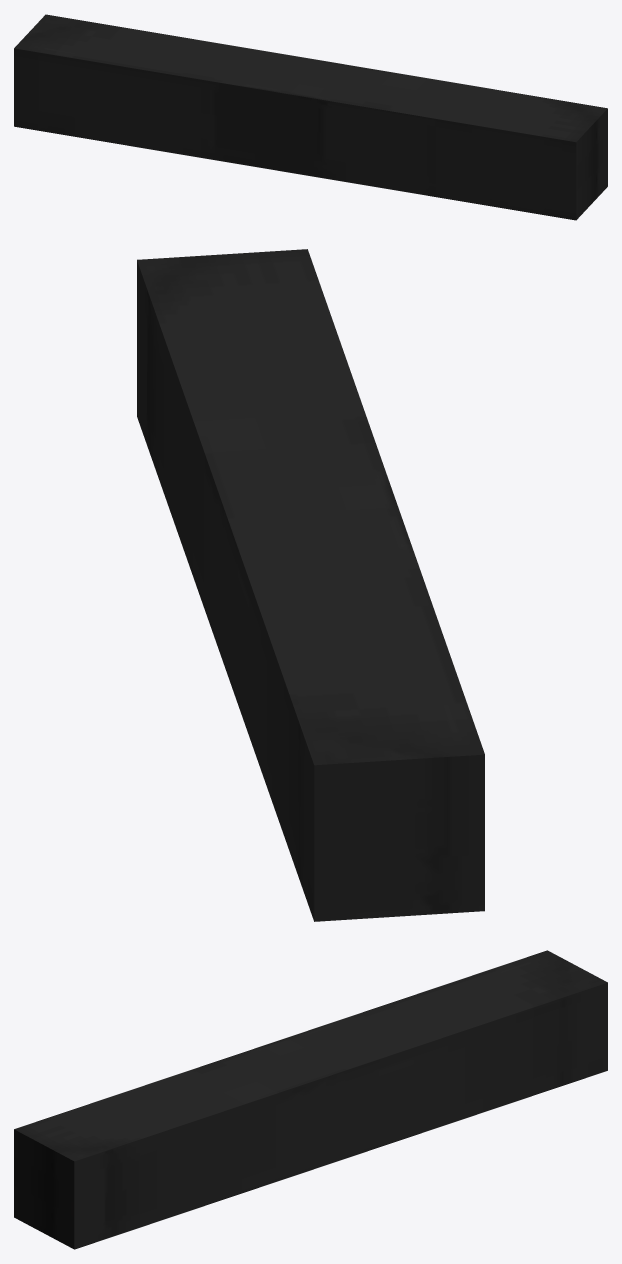
Rendered from frame__front_brace.glb.
3 views of the same model, one above another, from view 1: azimuth 30°, elevation 25°; view 2: azimuth 150°, elevation 25°; view 3: azimuth 270°, elevation 25° (orthographic). The views are drawn at different scales.
Visible parts, largest first — view 1: world; view 2: world; view 3: world.
Part boxes in pixels (x1,y1,x2,y2): world: [14, 14, 607, 220]; world: [137, 249, 484, 921]; world: [14, 950, 607, 1249].
Bounding box in the file's own units: 0.3081 × 0.06 × 0.3663.
Materials: 1 (1 with a texture image).
